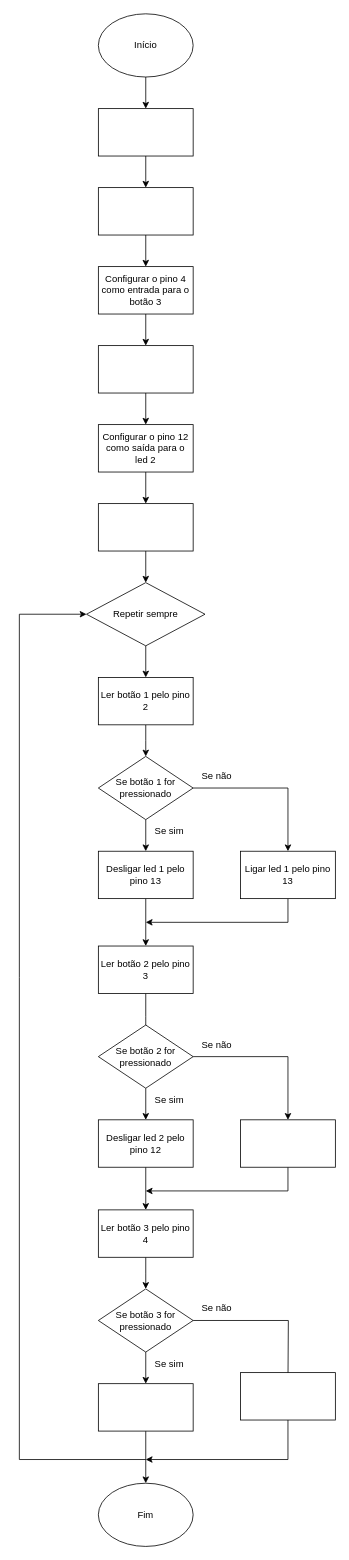
The diagram is 349 pixels wide and 1560 high, and some of its shapes have lost their labels. The centre of each missing label's shape, as x and y in pixels:
Configurar o pino 11 como saída para o led 3: the point at 145,369
Configurar o pino 13 como saída para o led 1: the point at 145,527
Configurar o pino 2 como entrada para o botão 1: the point at 145,132
Configurar o pino 3 como entrada para o botão 2: the point at 145,211
Desligar led 3 pelo pino 11: the point at 145,1407
Ligar led 2 pelo pino 12: the point at 287,1143
Ligar led 3 pelo pino 11: the point at 287,1396
